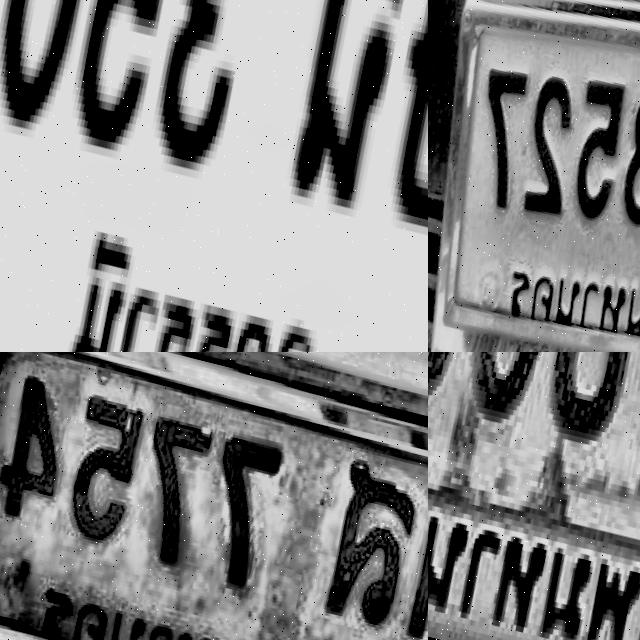license-plate: (0, 0, 428, 352), (0, 352, 428, 640), (428, 0, 640, 352), (428, 352, 640, 640)
